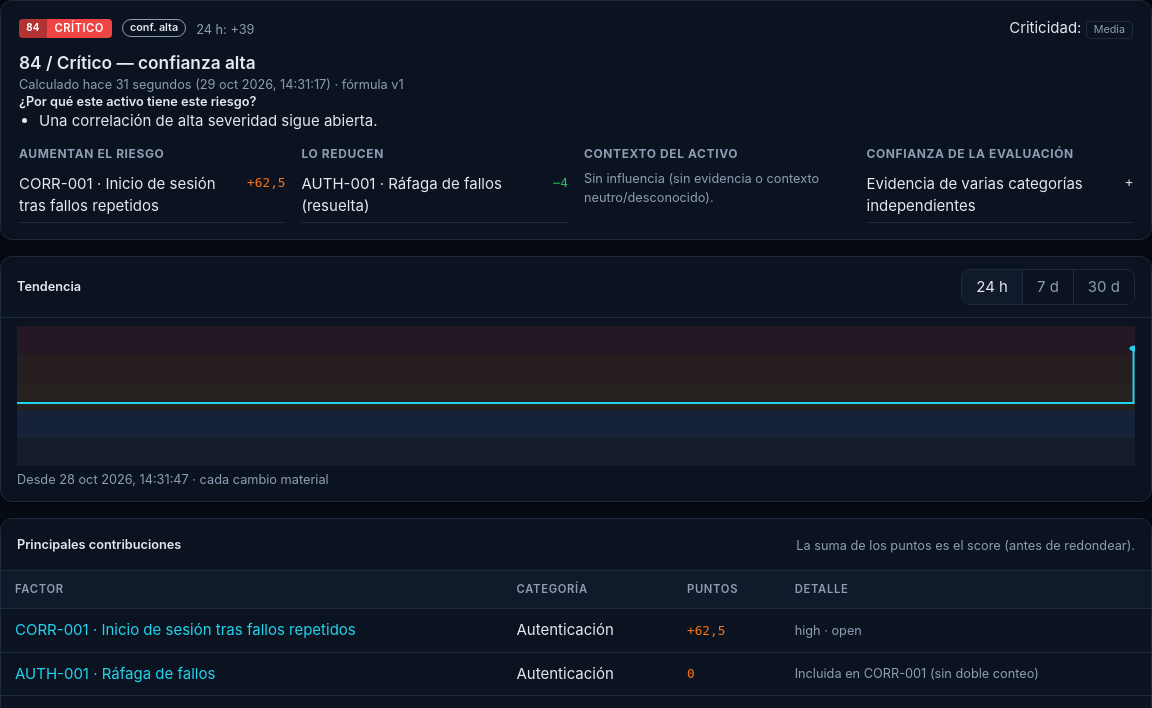
Scenario: RiskPanel › tendencia: pide solo el rango elegido
This screenshot has width=1152, height=708.
Expected: the picture named "Tendencia del riesgo (24h)" is shown, [17,326,1135,466]
What coordinates should you click on to do the following:
click the button "7 d"
I would click on:
 (1047, 287)
Its box is [1022,270,1073,304].
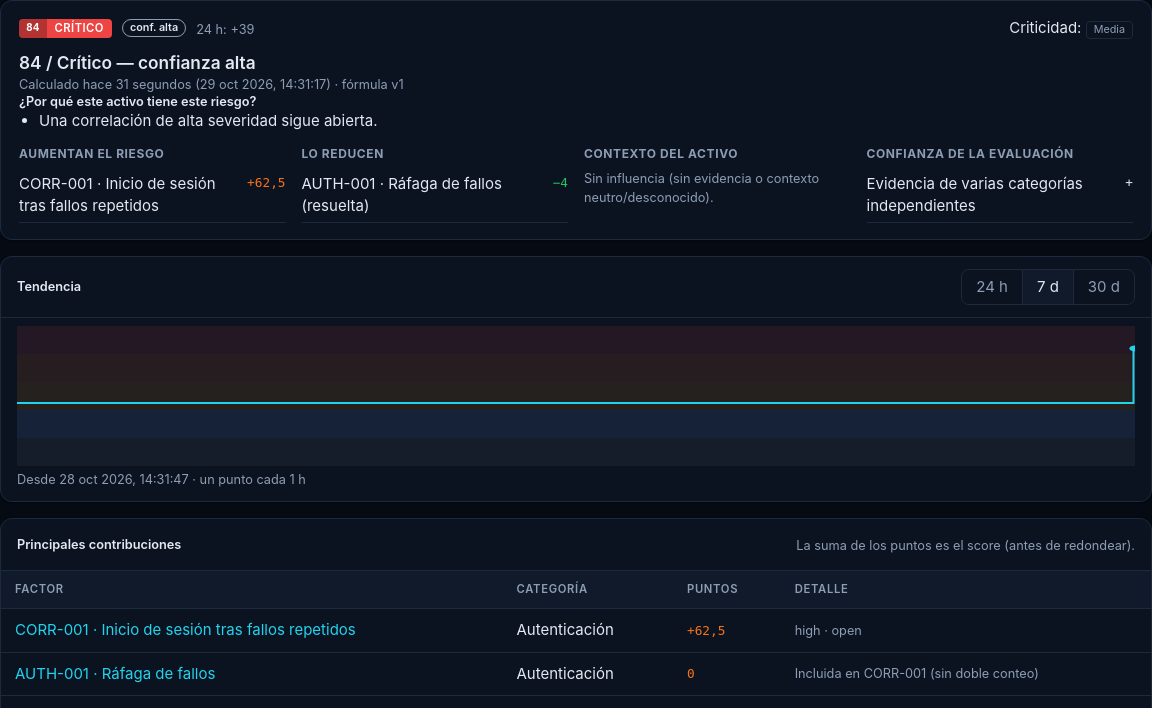
Expected: the text "Desde 28 oct 2026, 14:31:47 · un punto cada 1 h" is shown, [17,472,306,487]
